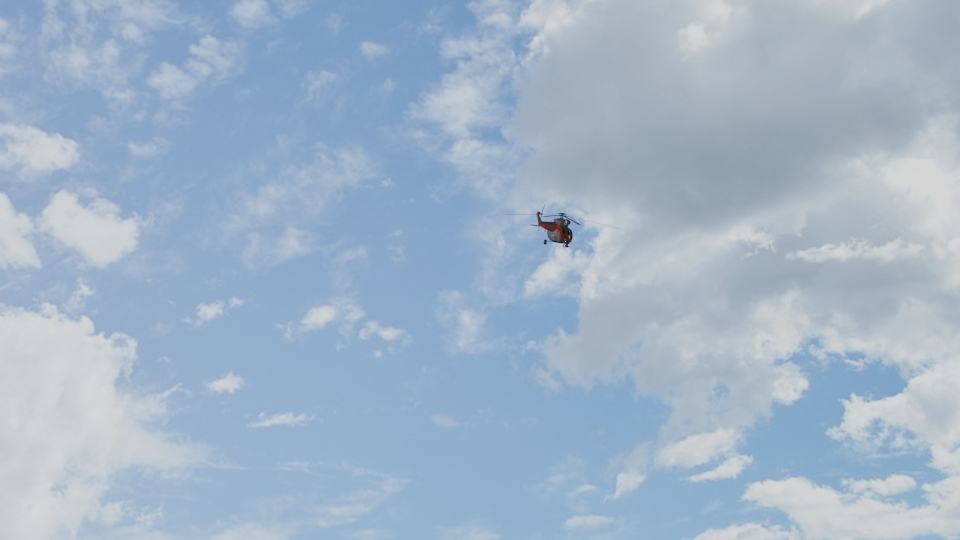heli: (531, 202, 579, 249)
